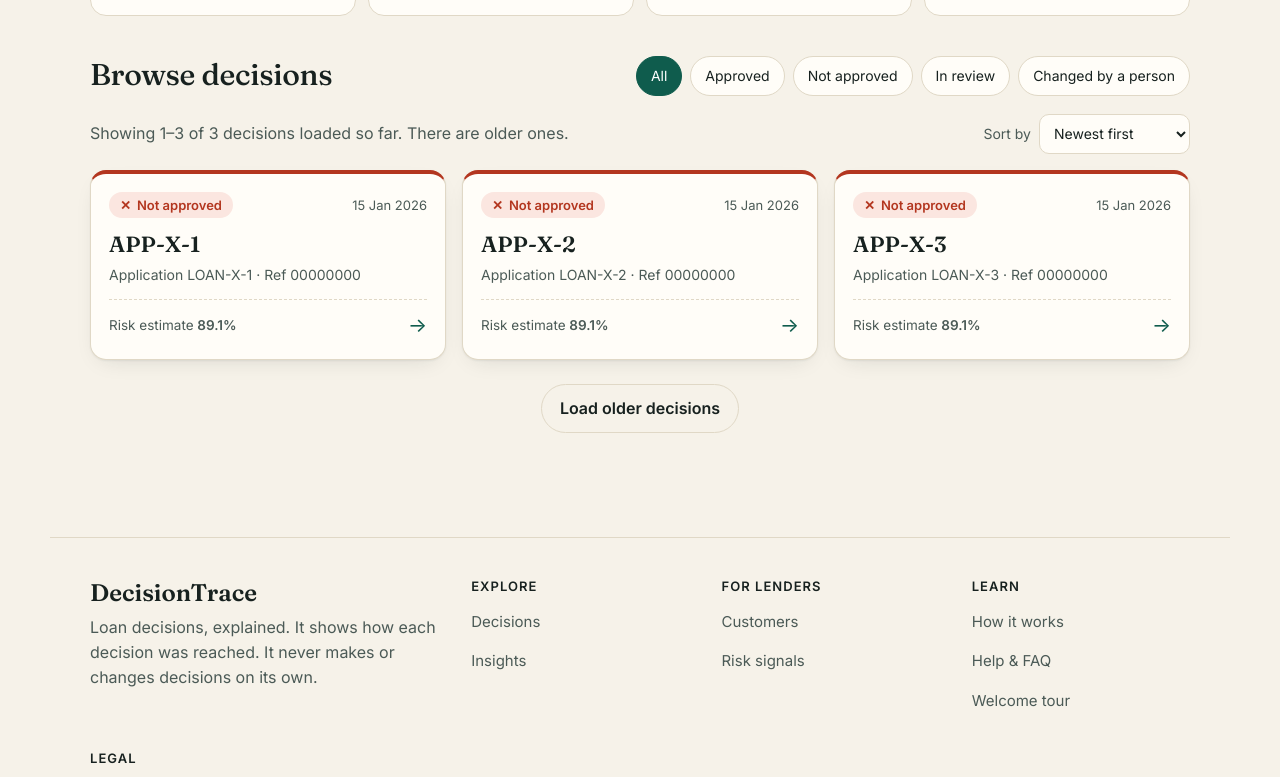
Scenario: in the app › a long list loads older decisions on request, without repeating any
(page scrolled)
Expected: the text "Application LOAN-X-1 · Ref 00000000" is shown 3 times, left=109, top=266, right=361, bottom=283; left=481, top=266, right=735, bottom=283; left=853, top=266, right=1108, bottom=283
Click the button with test id "load-more".
click(640, 409)  # box left=541, top=384, right=739, bottom=433
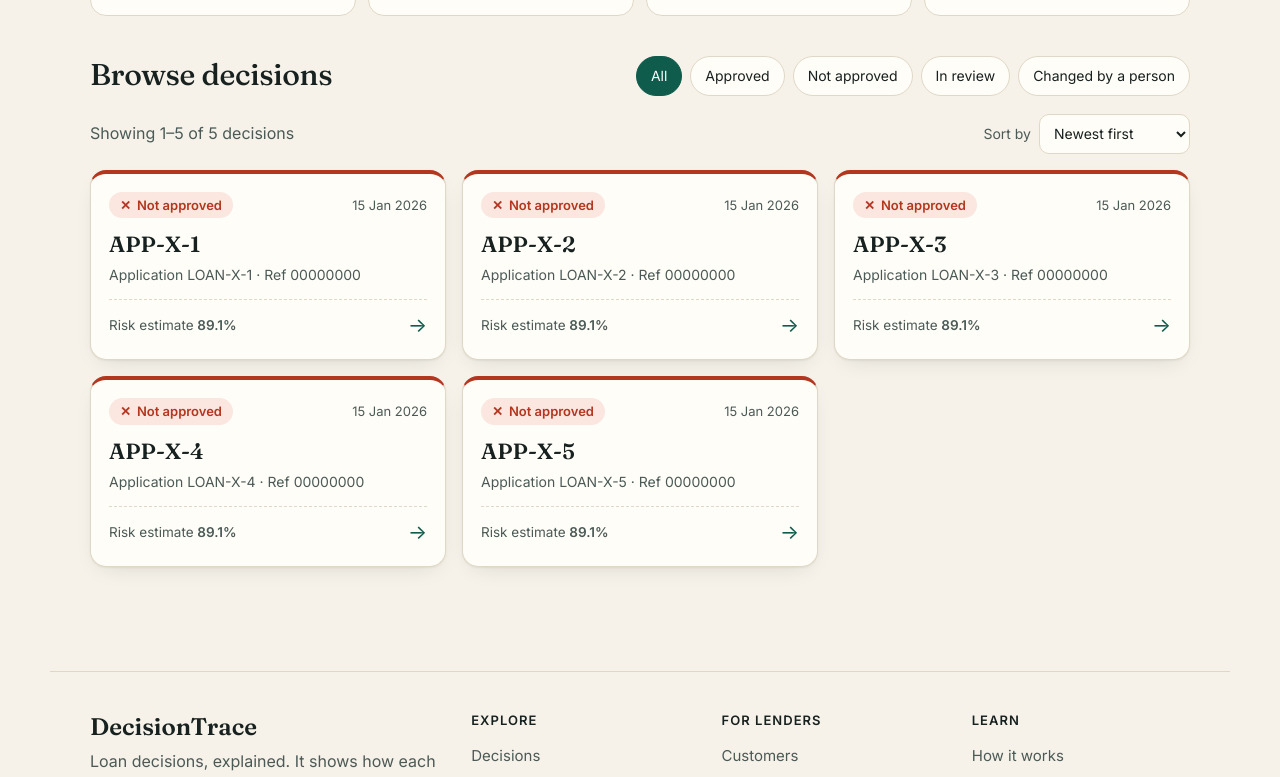
Now the text "Application LOAN-X-1 · Ref 00000000" is shown 5 times, box left=109, top=266, right=361, bottom=283; left=481, top=266, right=735, bottom=283; left=853, top=266, right=1108, bottom=283; left=109, top=473, right=364, bottom=490; left=481, top=473, right=736, bottom=490
Now the button with test id "load-more" is gone
